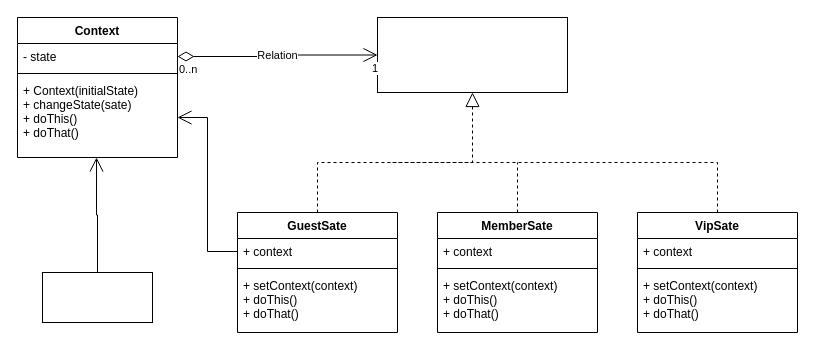
Some shapes in this 815 by 353 pixel diagram are drawn without their labels. The shapes that lost their labels are listed below. From the top down, each one's centre as x and y in pixels, then its label:
At pixel 472 54: "<<Interface>> State + doThis() + doThat()".
At pixel 97 297: "Client".
